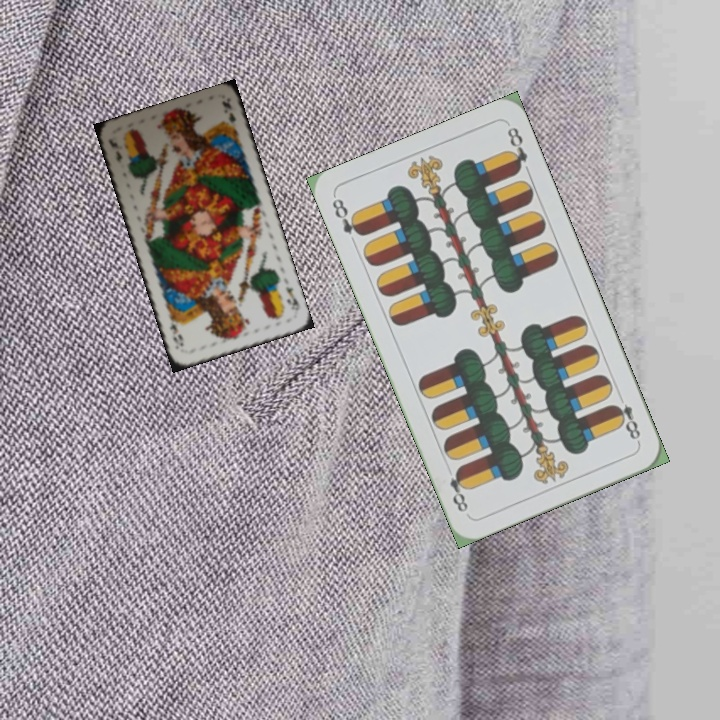E8: (328, 194, 366, 239), (608, 400, 643, 446)
EK: (104, 135, 125, 166), (281, 283, 302, 313)
